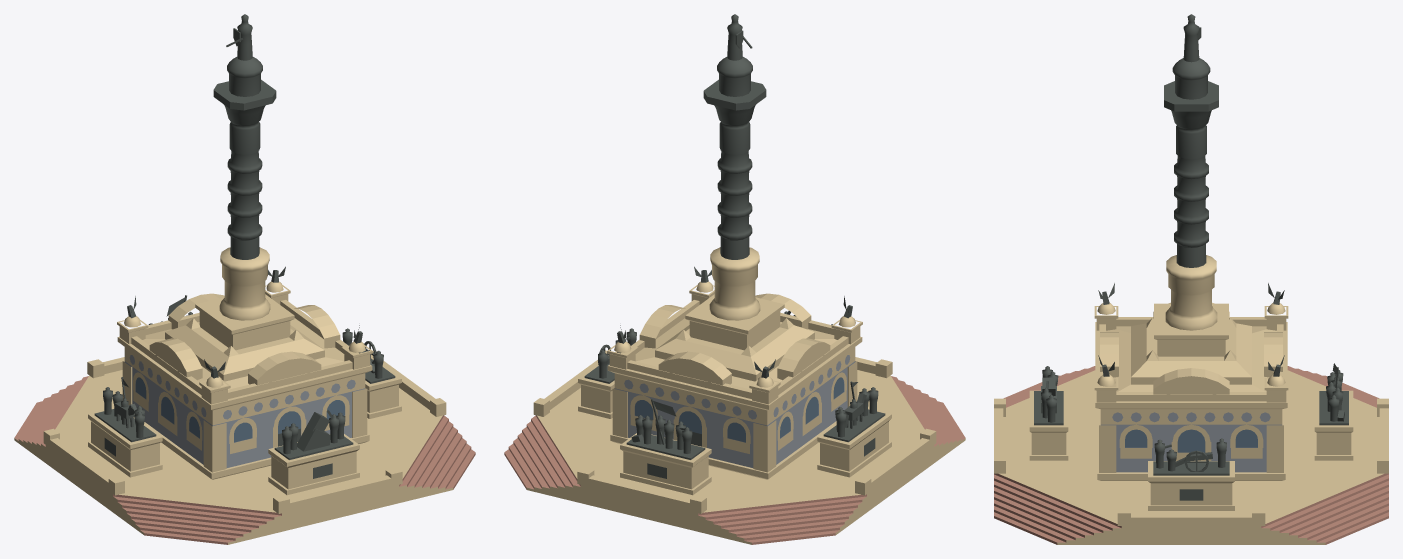
The model's file is cle-soldiers-and-sailors-monument.glb.
3 views of the same model, side by side, from view 1: azimuth 30°, elevation 25°; view 2: azimuth 150°, elevation 25°; view 3: azimuth 270°, elevation 25° (orthographic). The views are drawn at different scales.
Visible parts, largest first — view 1: Soldiers' and Sailors' Monument; view 2: Soldiers' and Sailors' Monument; view 3: Soldiers' and Sailors' Monument.
Boxes of the visible parts, x1,y1,x2,y2 form: Soldiers' and Sailors' Monument: (14, 14, 475, 544); Soldiers' and Sailors' Monument: (504, 14, 965, 544); Soldiers' and Sailors' Monument: (994, 14, 1388, 544).
Bounding box in the file's own units: 30 × 37.5 × 30.
